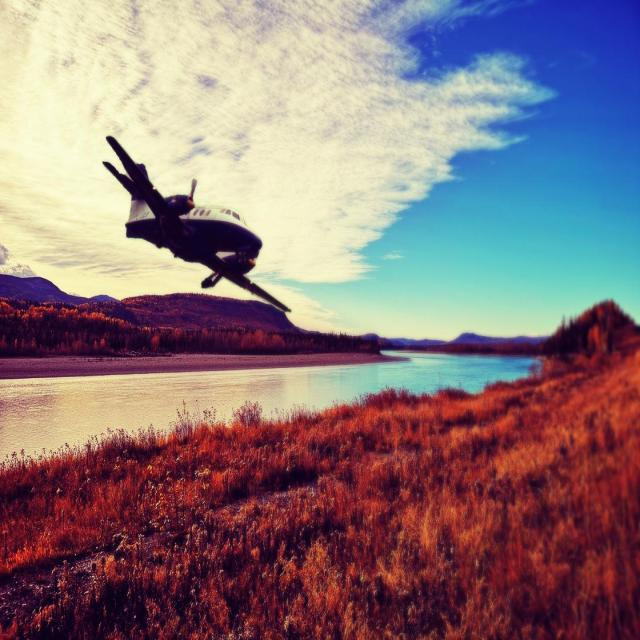airplane: (101, 134, 292, 313)
